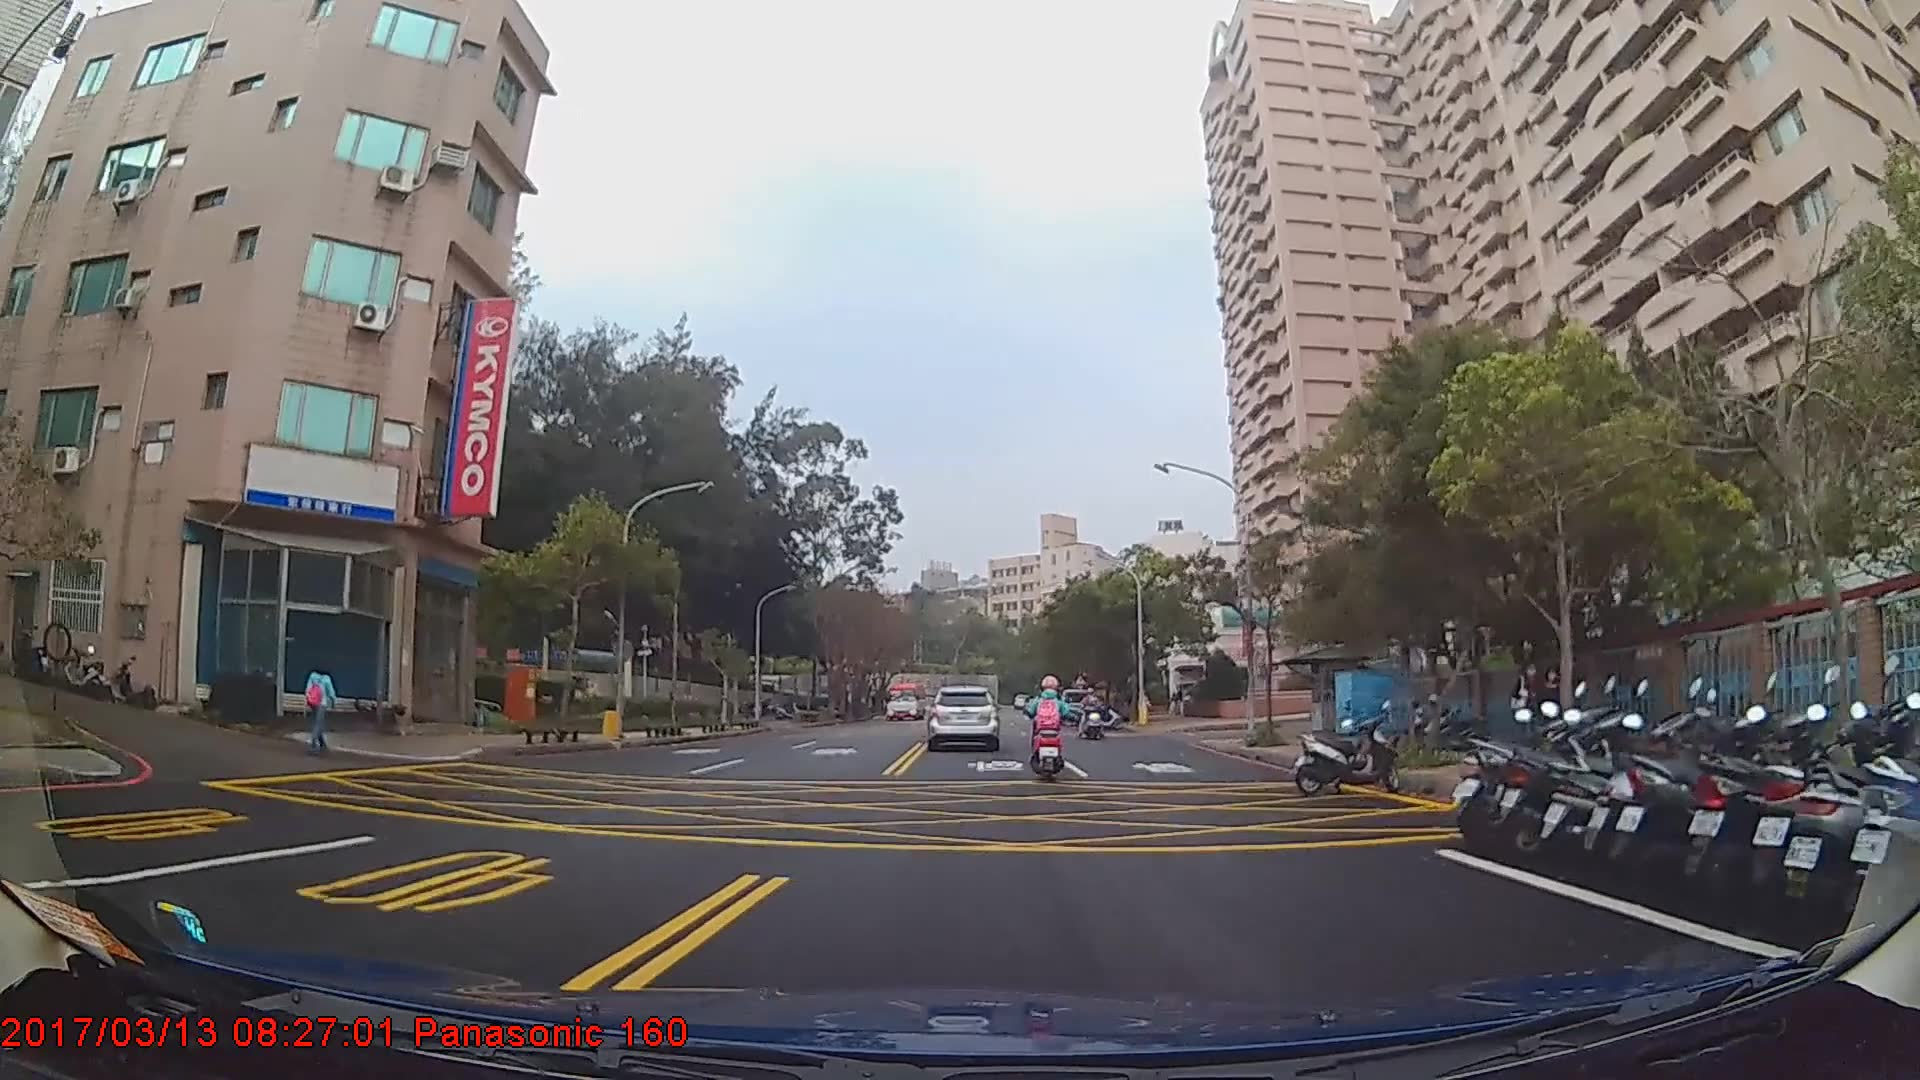pedestrian: (1505, 656, 1545, 754), (305, 654, 337, 755), (1534, 667, 1565, 749)
rider: (1026, 672, 1071, 782), (1078, 686, 1105, 738)
vehicle: (925, 682, 998, 747), (881, 679, 926, 720)
